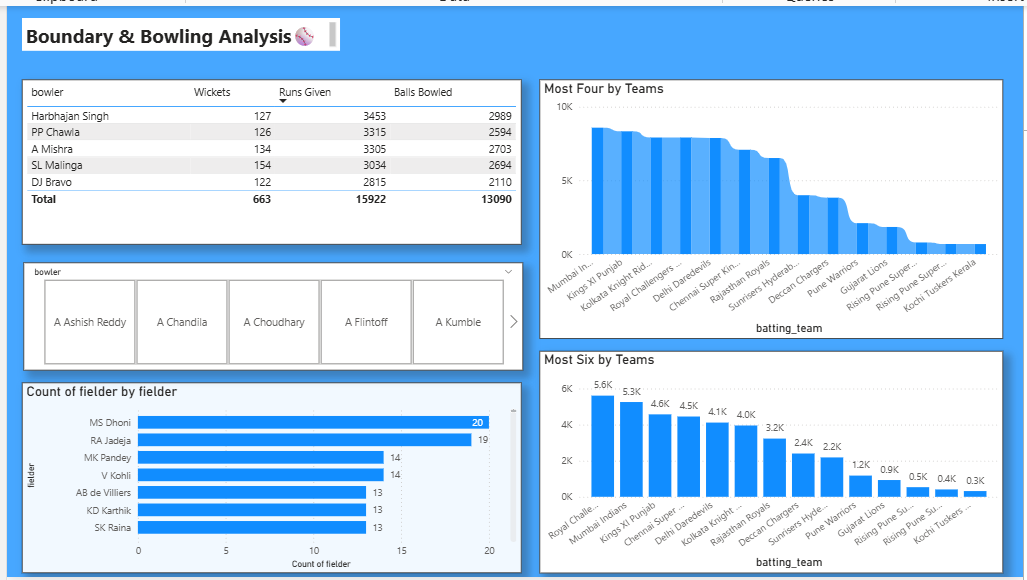

This screenshot's page, from the dashboard's own definition file:
{"tool":"powerbi","page":{"name":"Boundary & Bowling Analysis","canvas":[1280,720],"ordinal":4},"visuals":[{"type":"clusteredColumnChart","title":"Most Six by Teams","fields":{"Category":["deliveries csv.batting_team"],"Y":["Sum(deliveries csv.batsman_runs)"]},"box":[670.9,434.6,583.9,279.7],"z":0},{"type":"ribbonChart","title":"Most Four by Teams","fields":{"Category":["deliveries csv.batting_team"],"Y":["Sum(deliveries csv.batsman_runs)"]},"box":[670.9,92.6,583.9,326.9],"z":1000},{"type":"clusteredBarChart","fields":{"Category":["deliveries csv.fielder"],"Y":["CountNonNull(deliveries csv.fielder)"]},"box":[18.9,474.3,629.3,240],"z":2000},{"type":"tableEx","fields":{"Values":["deliveries csv.bowler","deliveries csv.Wickets","deliveries csv.Runs Given","deliveries csv.Balls Bowled"]},"box":[18.9,92.6,629.3,207.9],"z":3000},{"type":"textbox","box":[18.9,15.1,400.6,41.6],"z":4000},{"type":"slicer","fields":{"Values":["deliveries csv.bowler"]},"box":[20.8,323.2,629.3,136.1],"z":5000}]}

Visuals, with their boxes in screenshot pixels (x1, y1, x2, y2):
"Most Six by Teams" clusteredColumnChart: bbox=[536, 349, 998, 571]
"Most Four by Teams" ribbonChart: bbox=[536, 79, 998, 337]
clusteredBarChart - deliveries csv.fielder x CountNonNull(deliveries csv.fielder): bbox=[20, 381, 518, 571]
tableEx - deliveries csv.bowler x deliveries csv.Wickets: bbox=[20, 79, 518, 243]
textbox: bbox=[20, 17, 337, 50]
slicer - deliveries csv.bowler: bbox=[22, 261, 520, 369]
